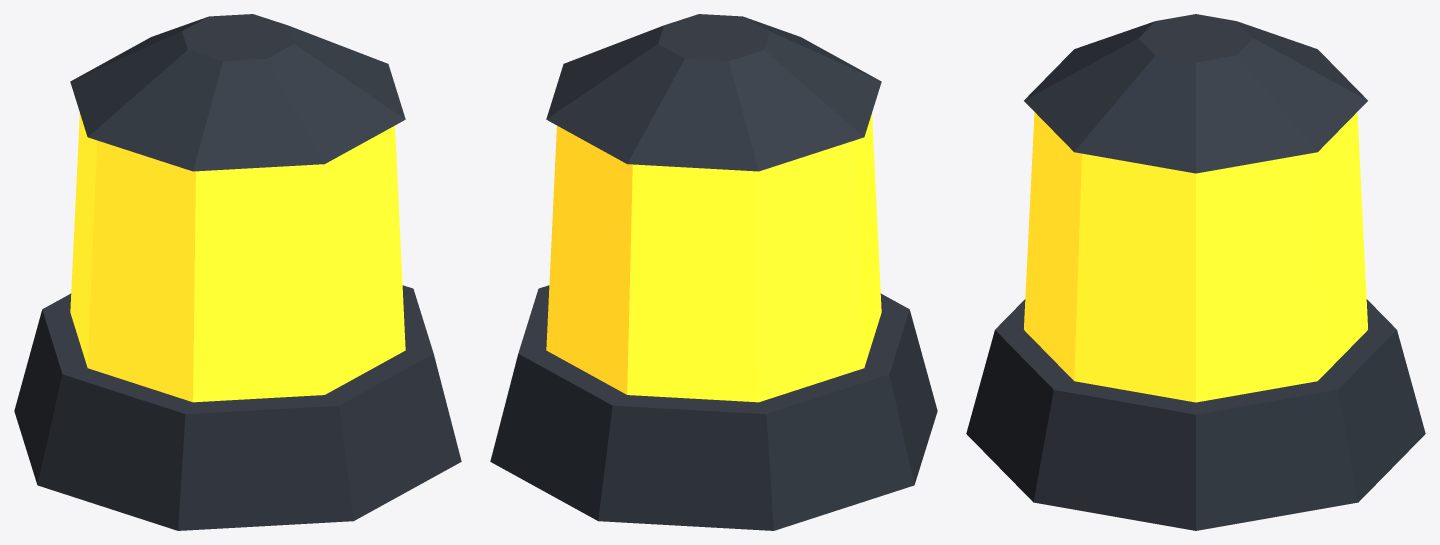
Rendered from robot_warning_beacon.glb.
3 views of the same model, side by side, from view 1: azimuth 30°, elevation 25°; view 2: azimuth 150°, elevation 25°; view 3: azimuth 270°, elevation 25° (orthographic).
Parts seen in each view (by area): view 1: robot_warning_beacon_steelDark, robot_warning_beacon_glowAmber; view 2: robot_warning_beacon_steelDark, robot_warning_beacon_glowAmber; view 3: robot_warning_beacon_steelDark, robot_warning_beacon_glowAmber.
Boxes of the visible parts, x1,y1,x2,y2 form: robot_warning_beacon_steelDark: (14,14,461,530); robot_warning_beacon_glowAmber: (70,113,405,402); robot_warning_beacon_steelDark: (490,14,937,530); robot_warning_beacon_glowAmber: (546,113,881,402); robot_warning_beacon_steelDark: (966,14,1425,530); robot_warning_beacon_glowAmber: (1024,112,1367,402).
Bounding box in the file's own units: 0.8 × 0.76 × 0.8.
